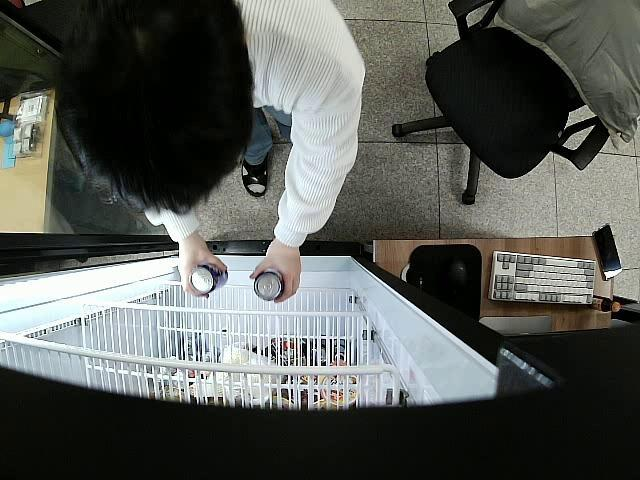14_welchsGrape: (190, 262, 228, 294), (252, 268, 285, 302)
